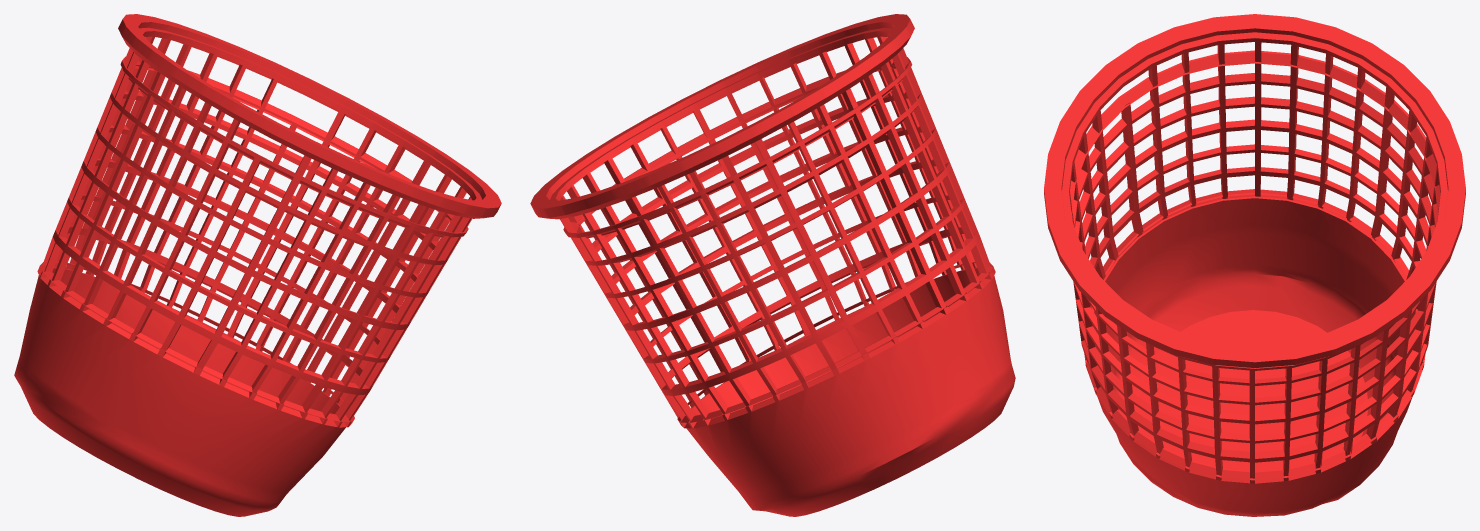
File: dustbin.glb
3 renders of one model, left to right at view 1: azimuth 30°, elevation 25°; view 2: azimuth 150°, elevation 25°; view 3: azimuth 270°, elevation 25°, orthographic.
Visible parts, largest first — view 1: Cylinder; view 2: Cylinder; view 3: Cylinder.
Boxes of the visible parts, x1,y1,x2,y2 form: Cylinder: (14,14,501,516); Cylinder: (530,14,1015,516); Cylinder: (1044,14,1465,516).
Size of the model in its own units: 2.56 by 2.62 by 2.18.
